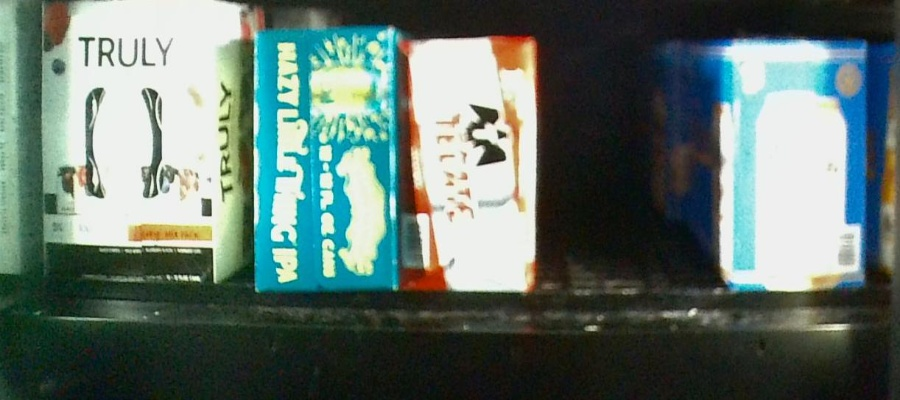bottle: (43, 2, 253, 290), (680, 41, 865, 293), (253, 24, 400, 293), (401, 40, 535, 282)
